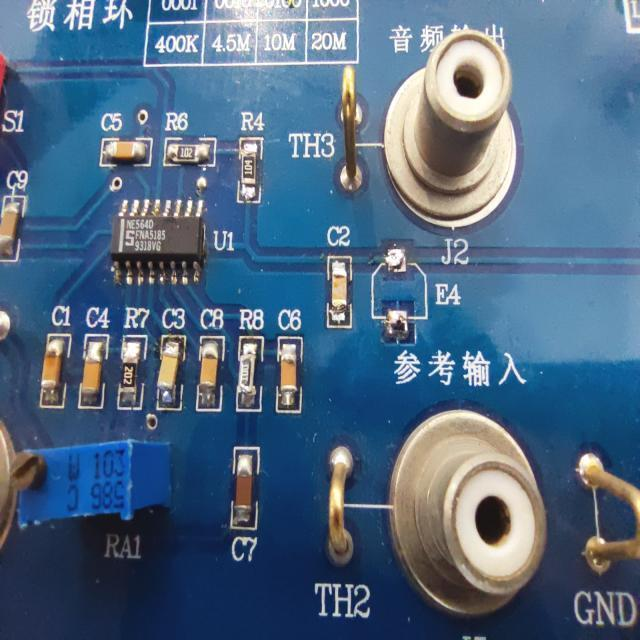Missing component: (368, 256, 464, 324)
